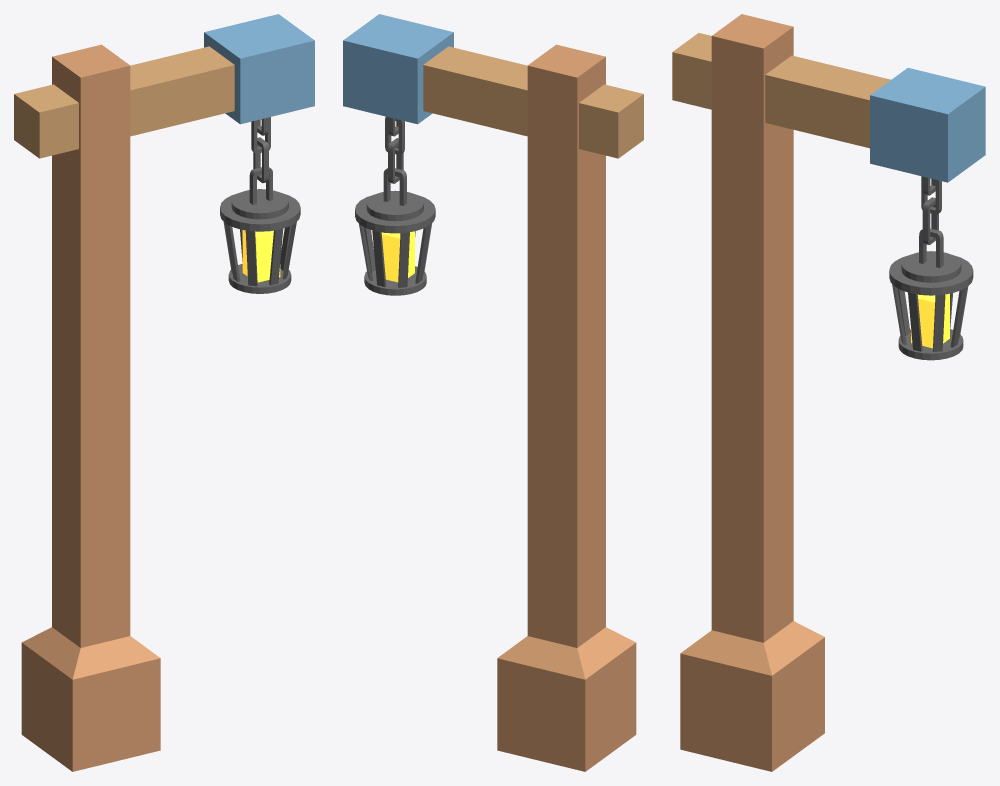
The model's file is 등불수정.fbx.
3 renders of one model, left to right at view 1: azimuth 30°, elevation 25°; view 2: azimuth 150°, elevation 25°; view 3: azimuth 330°, elevation 25°, orthographic. The views are drawn at different scales.
Parts seen in each view (by area): view 1: Cube.015, Cube.016, Cube.017, Cylinder.010, Cube, Cylinder.011, Cube.019, Cube.018, Cube.020; view 2: Cube.015, Cube.016, Cube.017, Cylinder.010, Cube, Cylinder.011, Cube.019, Cube.021, Cube.018, Plane.001; view 3: Cube.015, Cube.017, Cube.016, Cylinder.010, Cube, Cylinder.011, Cube.019, Cube.018, Cube.021, Plane.002, Plane.001.
Boxes of the visible parts, x1=… form: Cube.015: x1=21, y1=44, x2=160, y2=771; Cube.016: x1=14, y1=46, x2=234, y2=158; Cube.017: x1=204, y1=14, x2=314, y2=124; Cylinder.010: x1=220, y1=189, x2=300, y2=231; Cube: x1=242, y1=230, x2=280, y2=282; Cylinder.011: x1=228, y1=263, x2=291, y2=293; Cube.019: x1=225, y1=223, x2=291, y2=281; Cube.018: x1=240, y1=228, x2=283, y2=285; Cube.020: x1=245, y1=230, x2=257, y2=286; Cube.015: x1=497, y1=44, x2=636, y2=771; Cube.016: x1=423, y1=46, x2=643, y2=158; Cube.017: x1=343, y1=14, x2=453, y2=124; Cylinder.010: x1=355, y1=190, x2=435, y2=233; Cube: x1=381, y1=231, x2=414, y2=282; Cylinder.011: x1=364, y1=266, x2=426, y2=295; Cube.019: x1=364, y1=225, x2=430, y2=283; Cube.021: x1=398, y1=232, x2=409, y2=287; Cube.018: x1=372, y1=230, x2=415, y2=286; Plane.001: x1=383, y1=168, x2=406, y2=205; Cube.015: x1=680, y1=14, x2=824, y2=771; Cube.017: x1=870, y1=68, x2=985, y2=182; Cube.016: x1=672, y1=33, x2=890, y2=148; Cylinder.010: x1=889, y1=251, x2=973, y2=295; Cube: x1=911, y1=293, x2=949, y2=348; Cylinder.011: x1=898, y1=329, x2=963, y2=360; Cube.019: x1=897, y1=287, x2=966, y2=347; Cube.018: x1=908, y1=292, x2=952, y2=351; Cube.021: x1=932, y1=294, x2=945, y2=351; Plane.002: x1=922, y1=197, x2=938, y2=245; Plane.001: x1=919, y1=228, x2=943, y2=267.
Size of the model in its own units: 989 by 2385 by 323.
